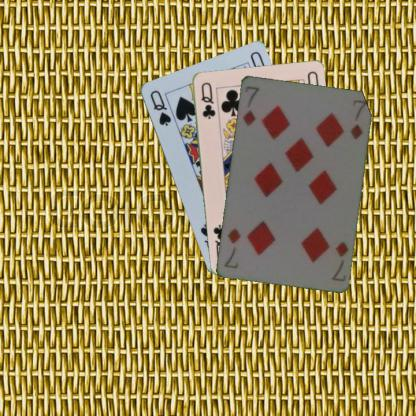7d: (328, 238, 350, 283), (240, 83, 260, 127)
Qc: (198, 79, 216, 120)
Qs: (147, 87, 172, 127)
